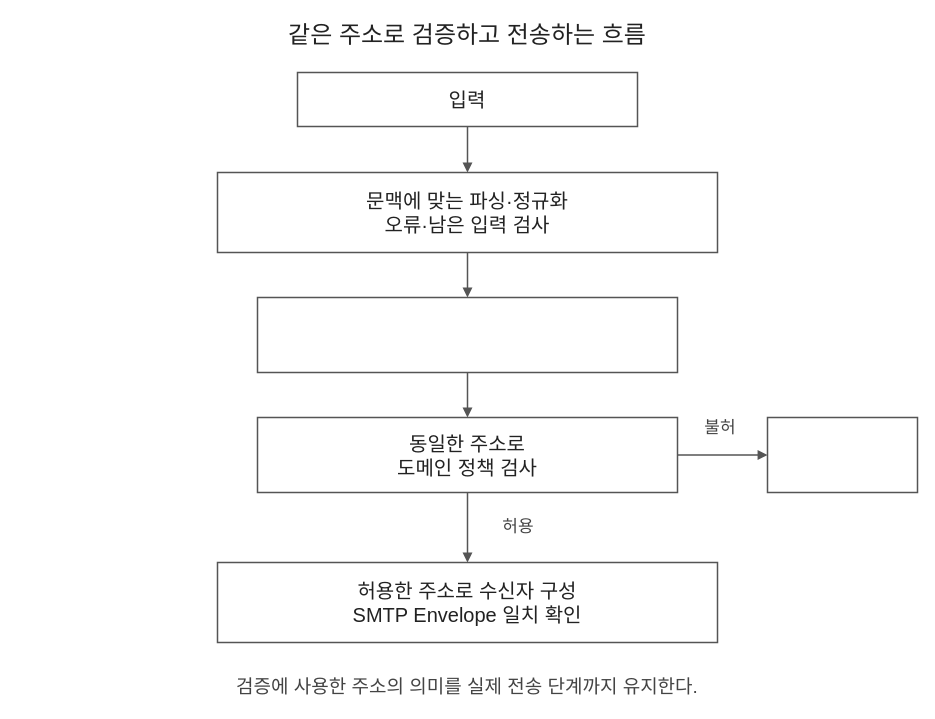
Some shapes in this 935 by 719 pixel diagram are drawn without their labels. Here are the shapes that lost their labels. From the top down, the centre of each, then its label:
the point at 467,334: 구조화된 주소 local-part + domain
the point at 842,454: 거절 전송 중단
